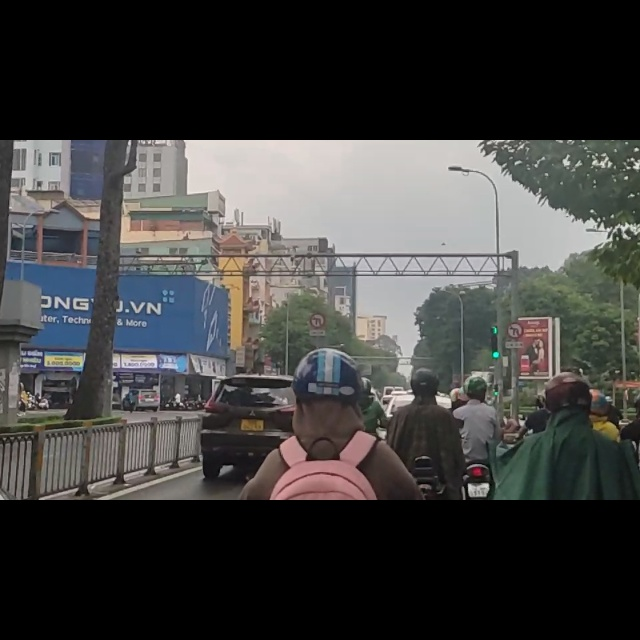bien_cam: (507, 324, 524, 356), (309, 306, 326, 338)
